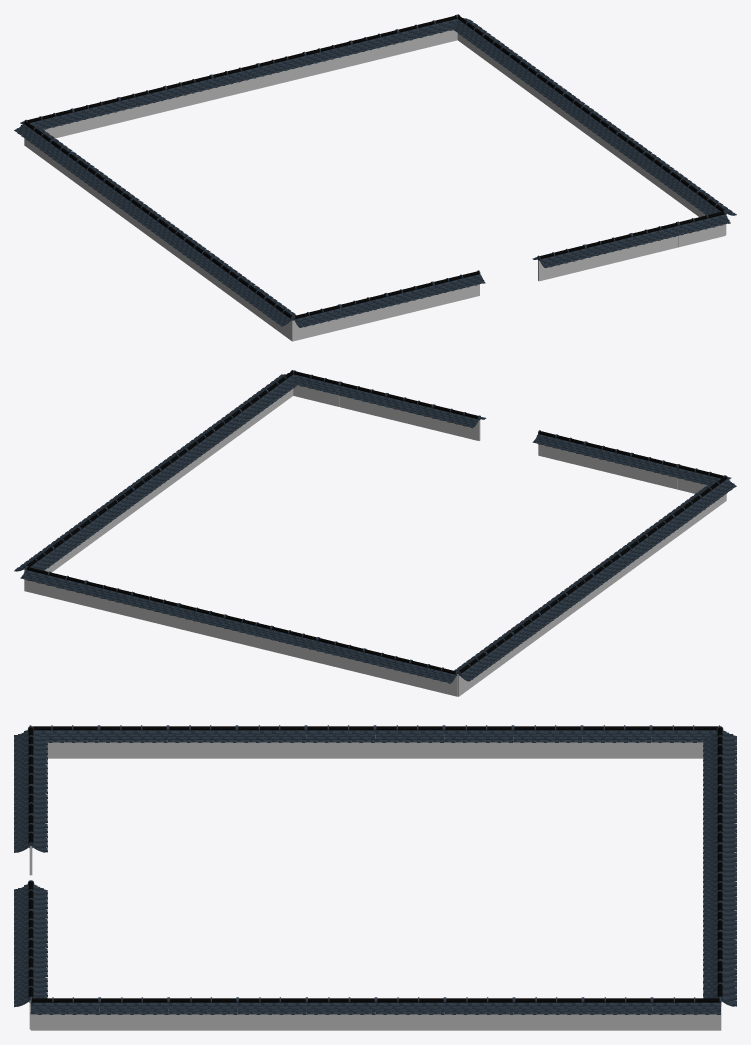
The model's file is Square.fbx.
3 renders of one model, top to bottom at view 1: azimuth 30°, elevation 25°; view 2: azimuth 150°, elevation 25°; view 3: azimuth 270°, elevation 25°, orthographic. The views are drawn at different scales.
Parts seen in each view (by area): view 1: Outside_Wall_square_LOD0; view 2: Outside_Wall_square_LOD0; view 3: Outside_Wall_square_LOD0.
Part boxes in pixels (x1,y1,x2,y2): Outside_Wall_square_LOD0: (14,14,736,341); Outside_Wall_square_LOD0: (14,370,736,696); Outside_Wall_square_LOD0: (14,725,736,1030).
Size of what is drawn, in the model's own units: 7668 by 404 by 8180.
